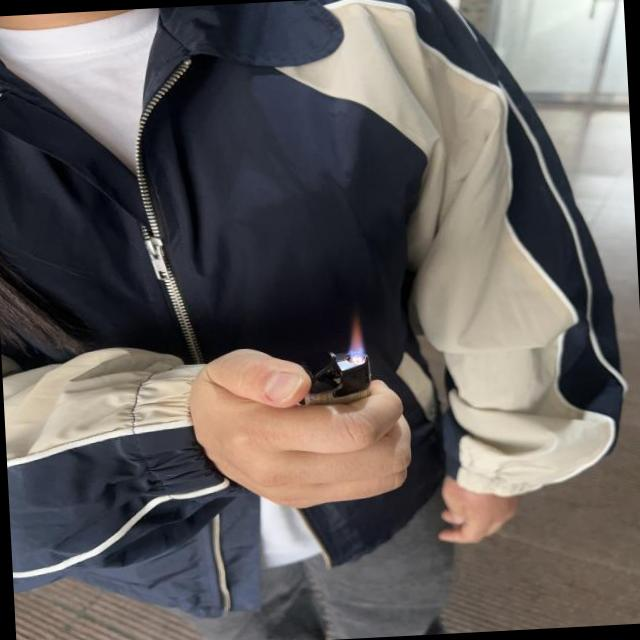Fire: (348, 312, 368, 366)
